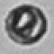correct: (4, 0, 48, 47)
